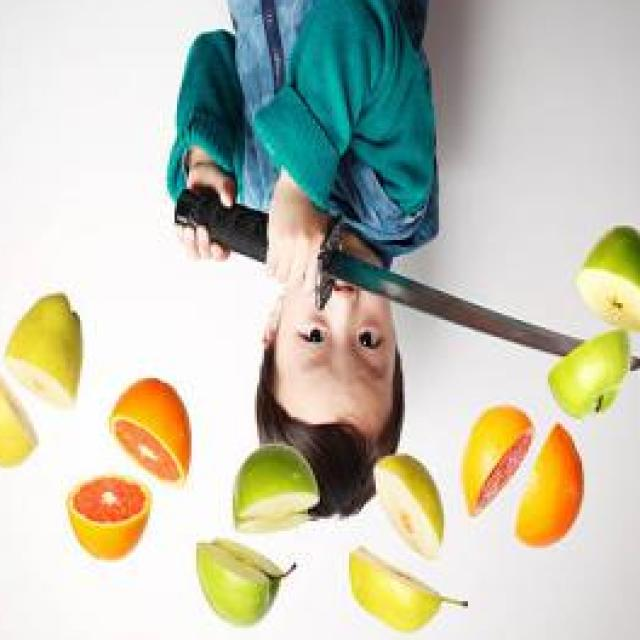knife: (157, 184, 640, 378)
